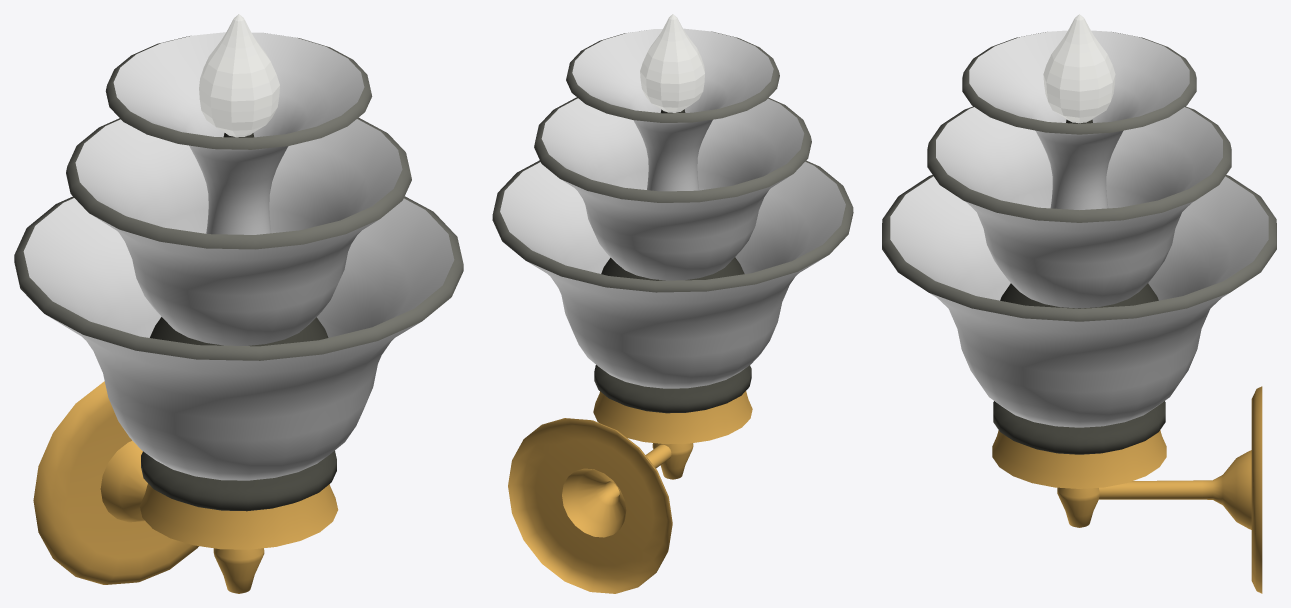
The model's file is OT_073_082_classy_wall_lamp.glb.
The picture shows the model from 3 angles, left to right: view 1: azimuth 30°, elevation 25°; view 2: azimuth 150°, elevation 25°; view 3: azimuth 270°, elevation 25°; orthographic projection. The views are drawn at different scales.
Visible parts, largest first — view 1: lamp_exterior_deco, lamp_structure, lamp_interior_deco, lightbulb; view 2: lamp_exterior_deco, lamp_structure, lamp_interior_deco, lightbulb; view 3: lamp_exterior_deco, lamp_structure, lamp_interior_deco, lightbulb.
Part boxes in pixels (x1,y1,x2,y2): lamp_exterior_deco: (14,32,463,480); lamp_structure: (33,381,338,593); lamp_interior_deco: (141,133,336,511); lightbulb: (199,14,279,137); lamp_exterior_deco: (492,28,853,388); lamp_structure: (508,391,752,593); lamp_interior_deco: (594,109,751,413); lightbulb: (640,14,704,112); lamp_exterior_deco: (882,30,1276,427); lamp_structure: (992,386,1262,593); lamp_interior_deco: (993,119,1165,454); lightbulb: (1043,14,1115,123).
Size of the model in its own units: 0.6705 by 1.06 by 0.6637.
